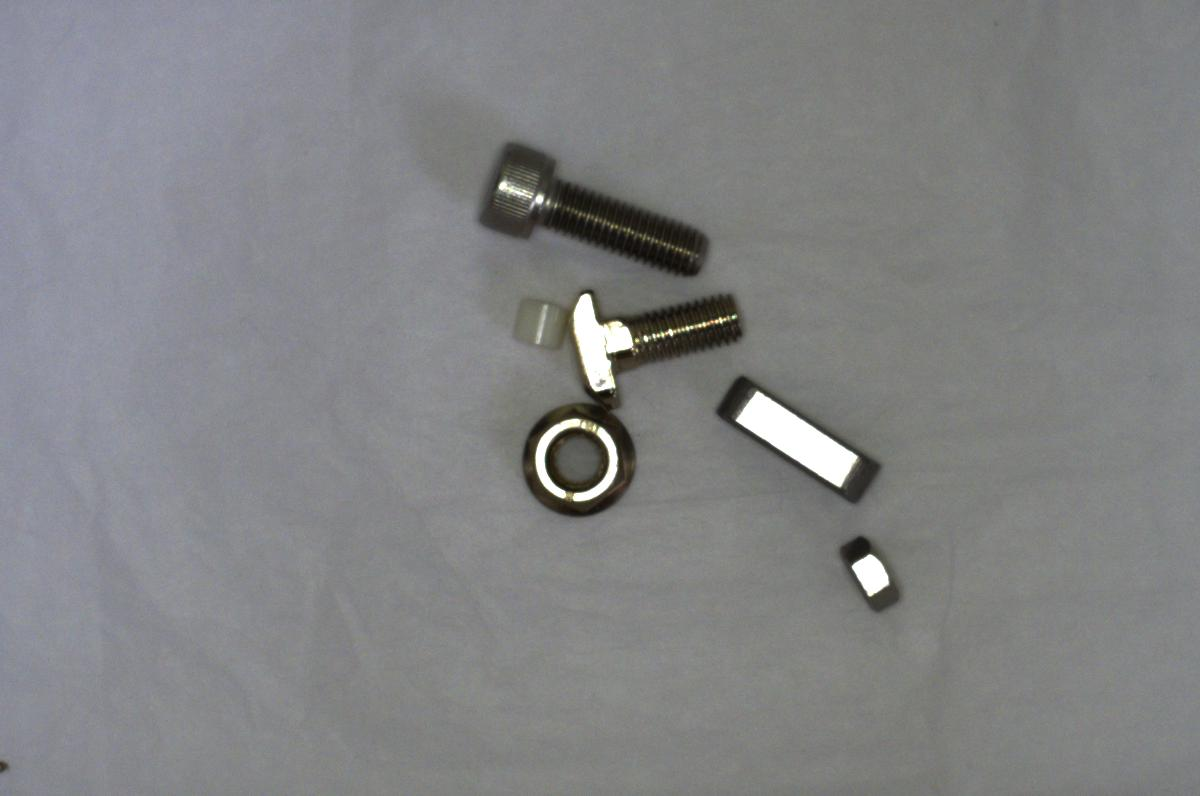Flange nut: (521, 396, 654, 514)
Hexagon nut: (830, 530, 905, 615)
Hexagon screw: (473, 138, 719, 276)
Keybar: (706, 381, 893, 510)
Plastic cushion pillar: (501, 289, 573, 353)
T-shaped screw: (560, 281, 768, 405)
